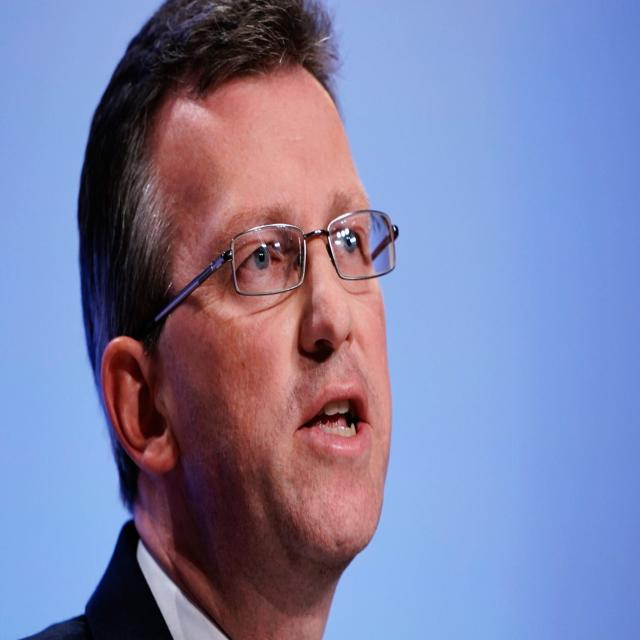human: (59, 0, 396, 640)
